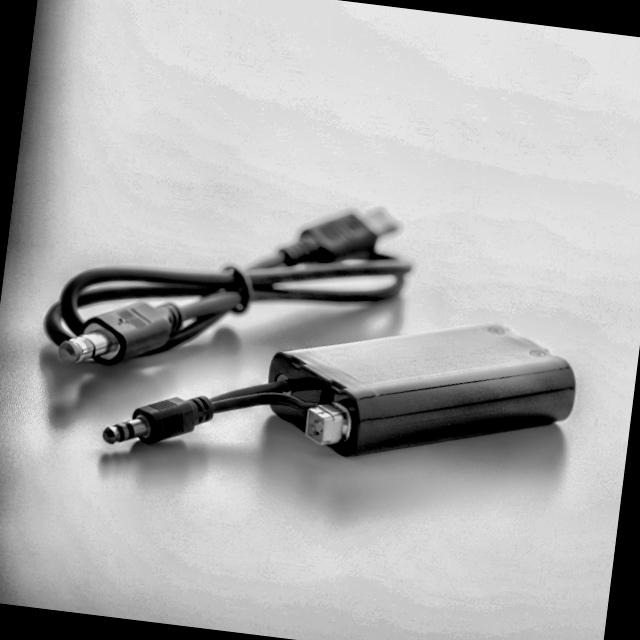Battery: (260, 293, 586, 484)
Cable: (38, 161, 414, 401), (95, 356, 289, 482)
